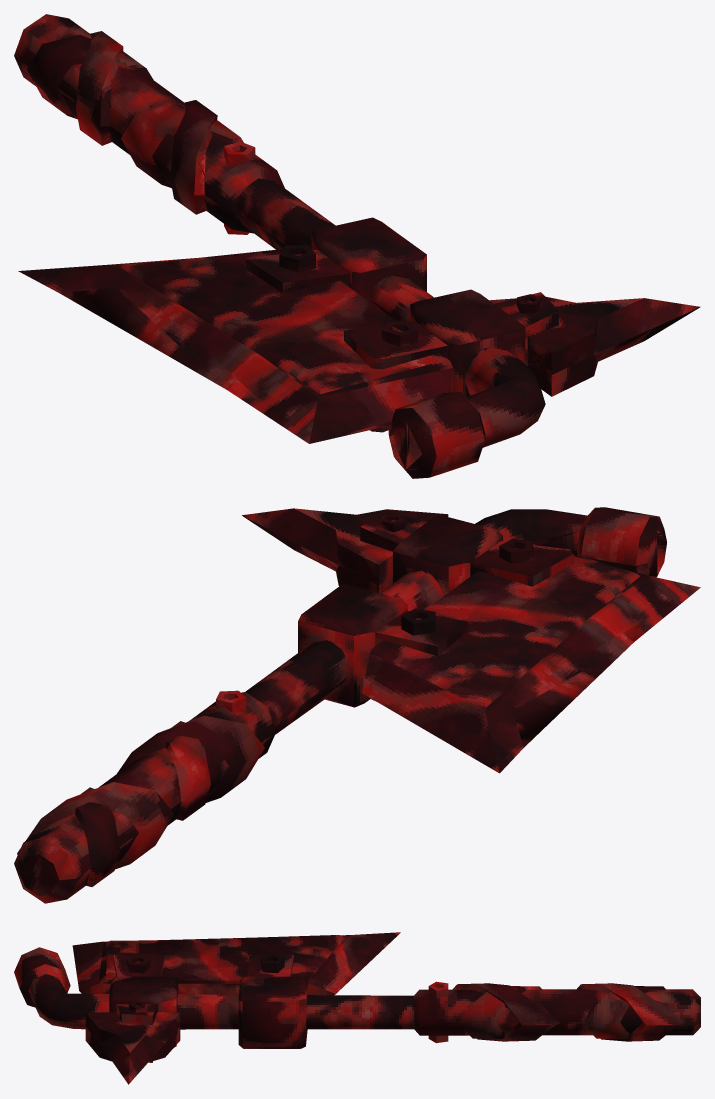
The model's file is item_axe_blood.glb.
The picture shows the model from 3 angles, top to bottom: view 1: azimuth 30°, elevation 25°; view 2: azimuth 150°, elevation 25°; view 3: azimuth 270°, elevation 25°; orthographic projection. The views are drawn at different scales.
Visible parts, largest first — view 1: Axe; view 2: Axe; view 3: Axe.
Part boxes in pixels (x1,y1,x2,y2): Axe: (14, 14, 700, 478); Axe: (14, 507, 700, 903); Axe: (14, 932, 700, 1084).
Bounding box in the file's own units: 0.612 × 0.1158 × 1.16.
Materials: 1 (1 with a texture image).
